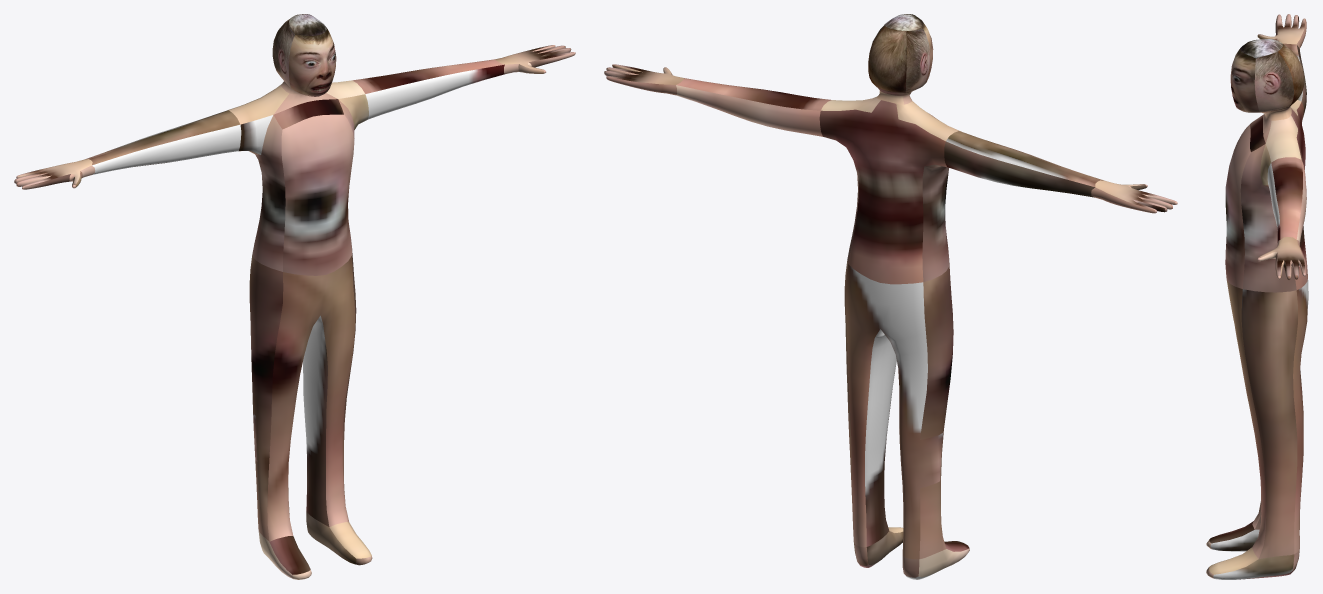
Rendered from nathanopticon.fbx.
The picture shows the model from 3 angles, left to right: view 1: azimuth 30°, elevation 25°; view 2: azimuth 150°, elevation 25°; view 3: azimuth 270°, elevation 25°; orthographic projection. The views are drawn at different scales.
Parts seen in each view (by area): view 1: Cube.004; view 2: Cube.004; view 3: Cube.004.
Part boxes in pixels (box(x1,y1,x2,y2)): Cube.004: box(14, 14, 575, 579); Cube.004: box(604, 14, 1177, 579); Cube.004: box(1206, 14, 1308, 579).
Size of the model in its own units: 195 by 180 by 31.94.
1 material, 1 textured.
